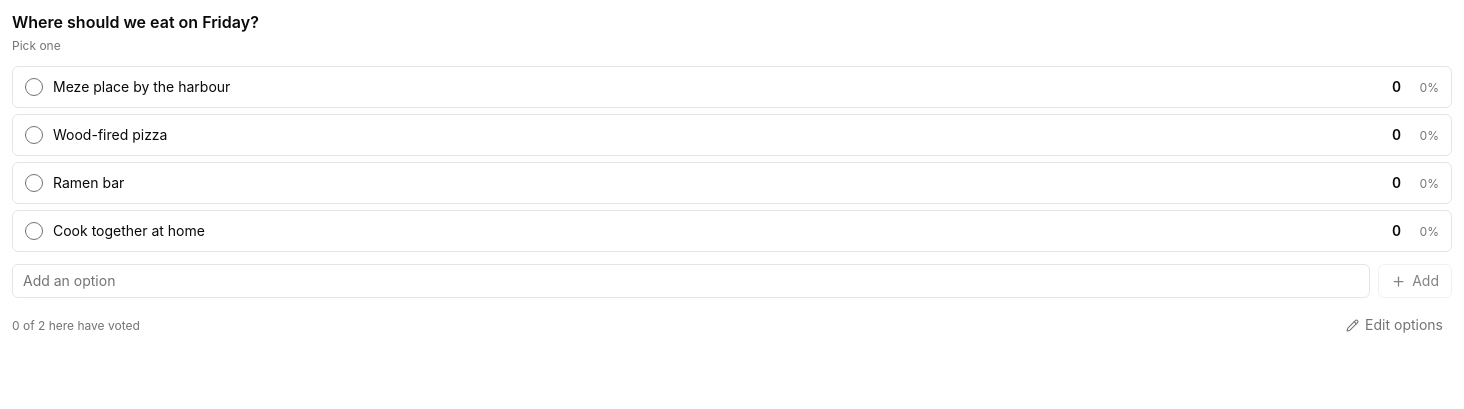
Test case: Poll › adds, renames and removes options
Type "Kebab house" into the field labelled "Add an option".
click(691, 281); type("Kebab house")  # box [12,264,1370,298]
Then press Enter
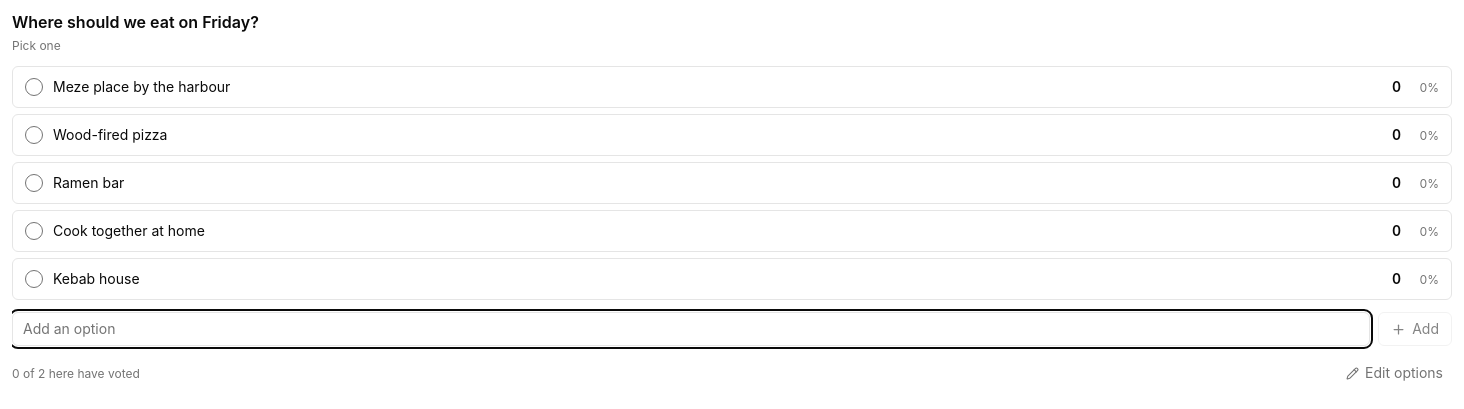
Expected: the radio button labelled "Kebab house 0 0%" is shown, [12,258,1452,300]
Click the button "Edit options".
click(1395, 374)  # box [1337,358,1452,389]
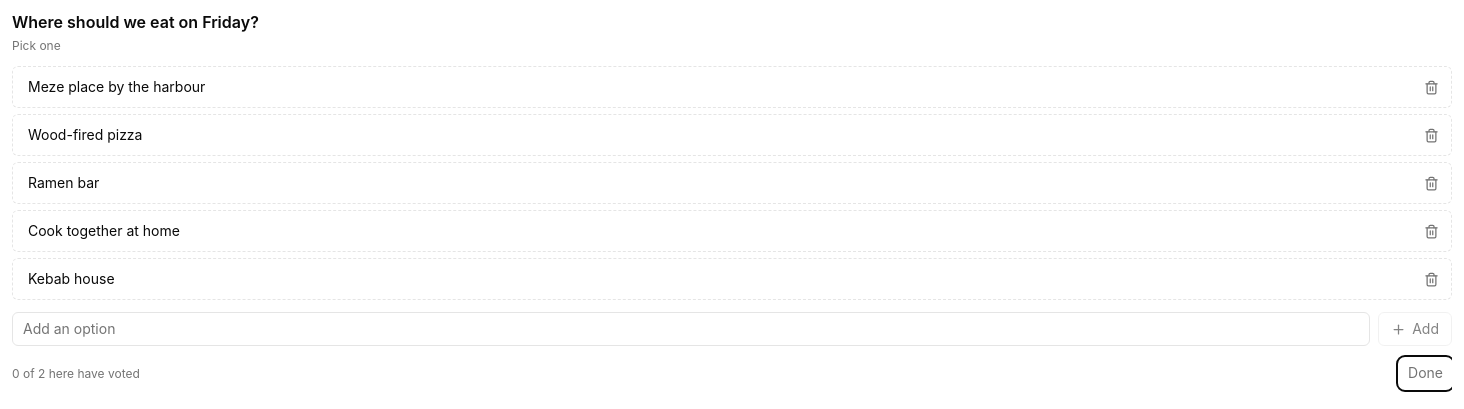
Replace the text in the field named "Rename option Ramen bar" with "Udon bar" at (718, 183), box [23,170,1414,196]
Then press Enter
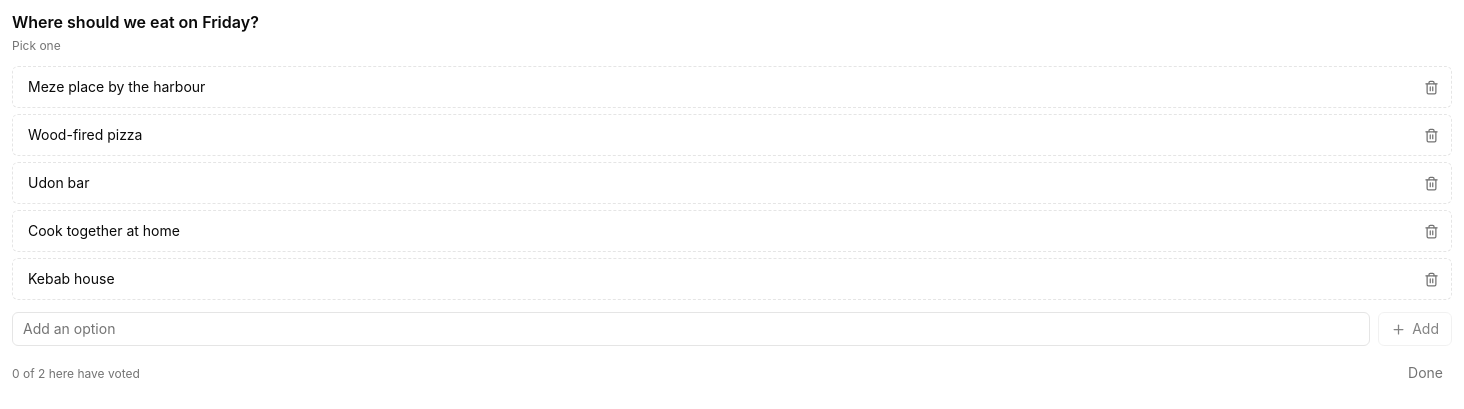
Click the button named "Remove option Wood-fired pizza".
click(1431, 135)  # box [1418,121,1445,149]
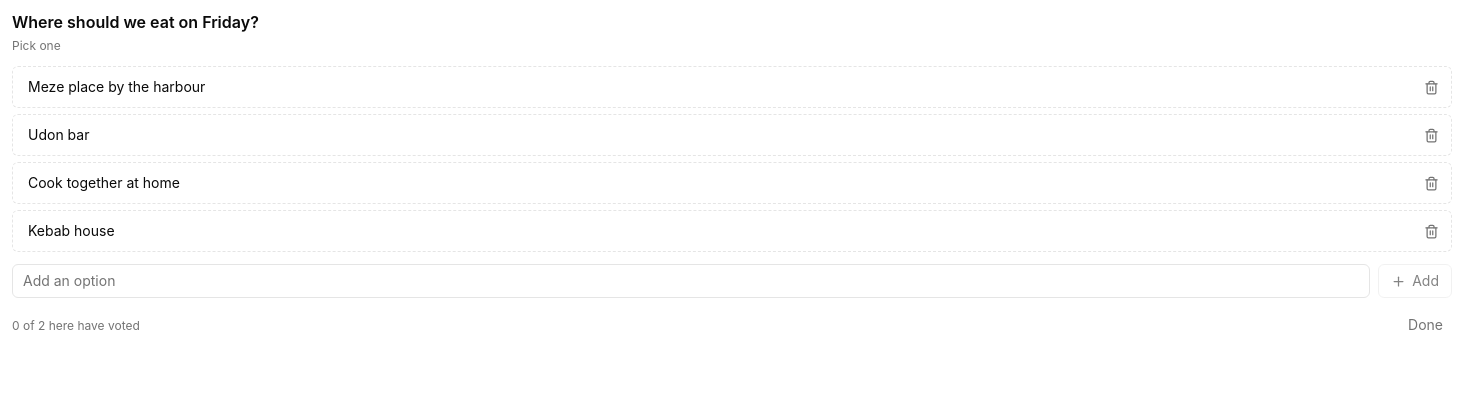
Click the button "Done".
click(1426, 326)  # box [1399,310,1452,341]
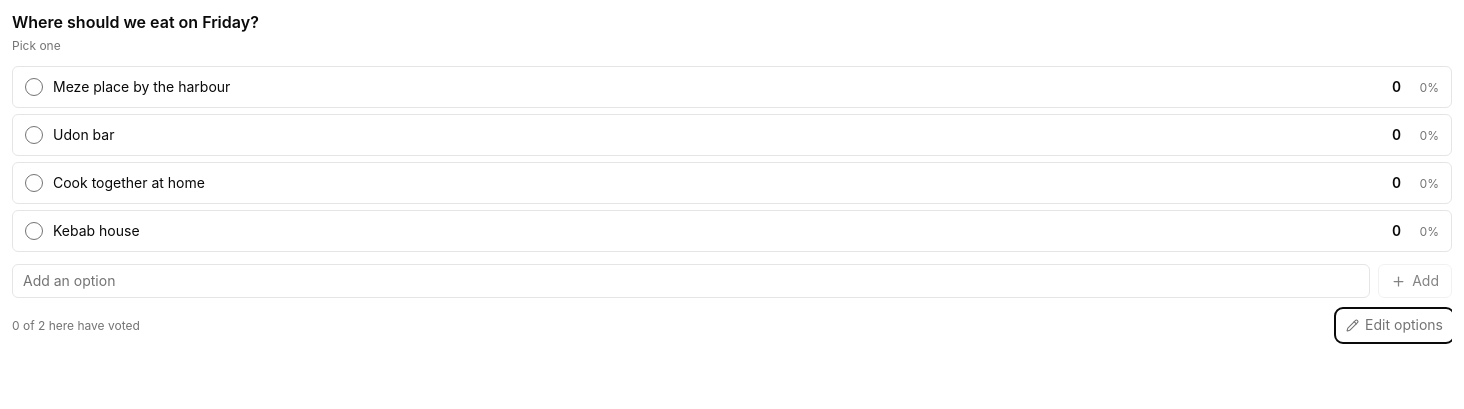
Expected: the radio button labelled "pizza" is not shown
Expected: the radio button labelled "Udon bar 0 0%" is shown, [12,114,1452,156]
